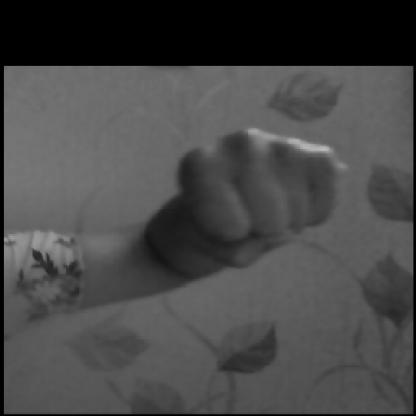fist: (78, 106, 354, 322)
